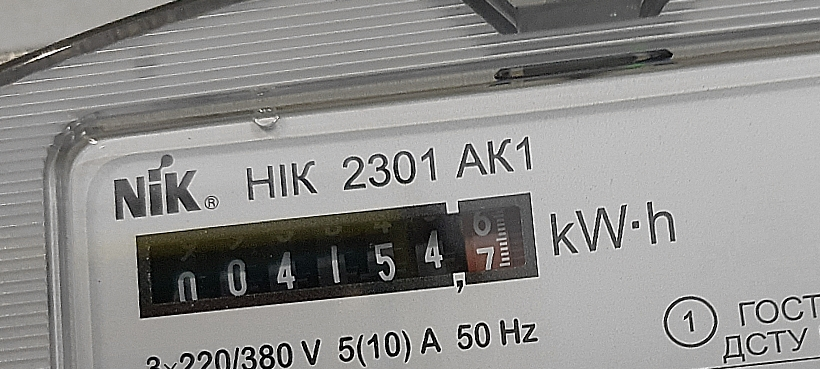0: (223, 255, 249, 298), (173, 266, 199, 302)
1: (326, 242, 343, 285)
4: (271, 248, 298, 291), (420, 225, 444, 271)
5: (371, 236, 399, 283)
6: (469, 206, 494, 237)
7: (473, 242, 497, 272)
screen: (115, 176, 557, 333)
